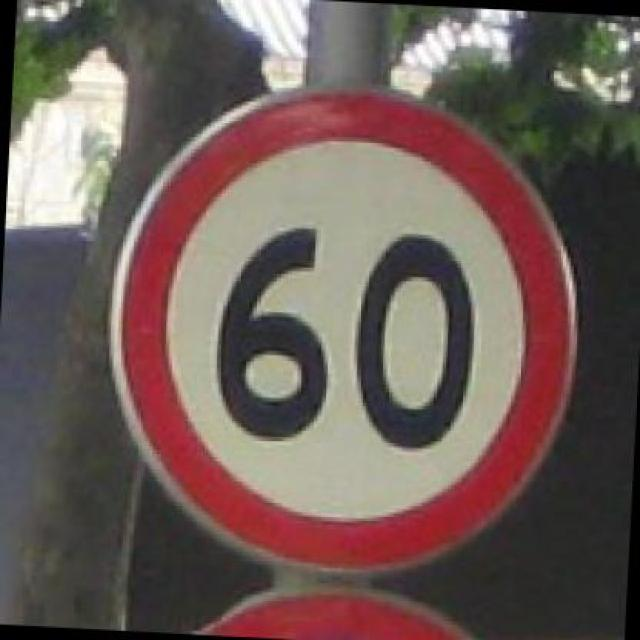Limite-60: (108, 84, 581, 580)
